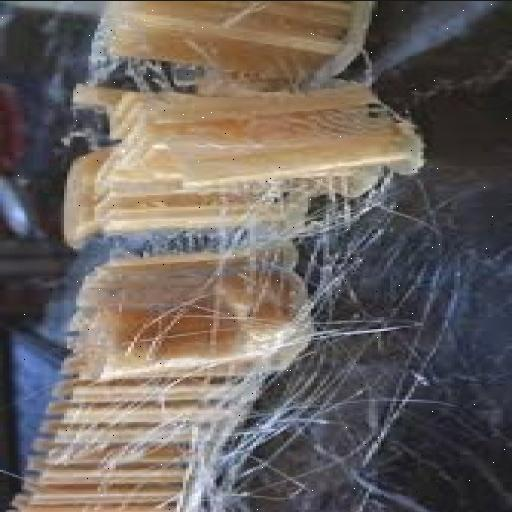stringing: (172, 346, 328, 505), (234, 190, 370, 314), (91, 25, 179, 93), (105, 228, 245, 262)
